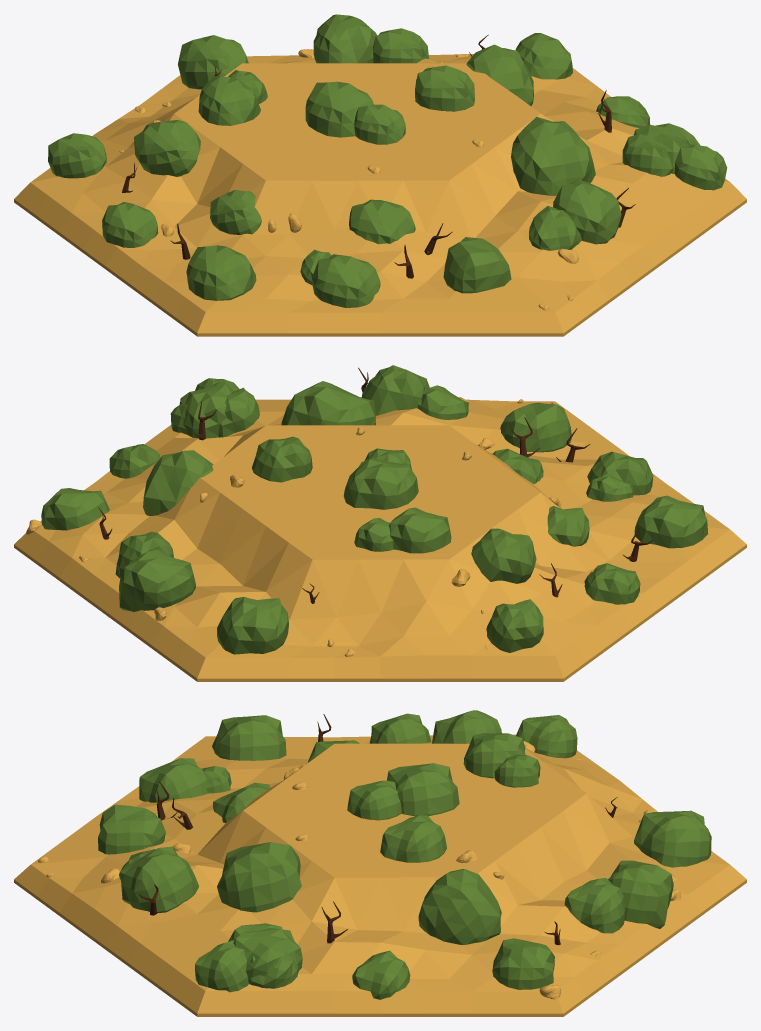
The model's file is shrublands.glb.
3 views of the same model, one above another, from view 1: azimuth 30°, elevation 25°; view 2: azimuth 150°, elevation 25°; view 3: azimuth 270°, elevation 25° (orthographic).
Parts seen in each view (by area): view 1: land, big_details, small_details; view 2: land, big_details, small_details; view 3: land, big_details, small_details.
Boxes of the visible parts, <box> form: land: <box>14,54,746,336</box>; big_details: <box>48,14,727,307</box>; small_details: <box>119,49,578,310</box>; land: <box>14,399,746,681</box>; big_details: <box>41,365,707,654</box>; small_details: <box>26,397,613,656</box>; land: <box>14,734,746,1016</box>; big_details: <box>98,710,711,999</box>; small_details: <box>38,741,681,999</box>.
Size of the model in its own units: 1.73 by 0.351 by 2.
